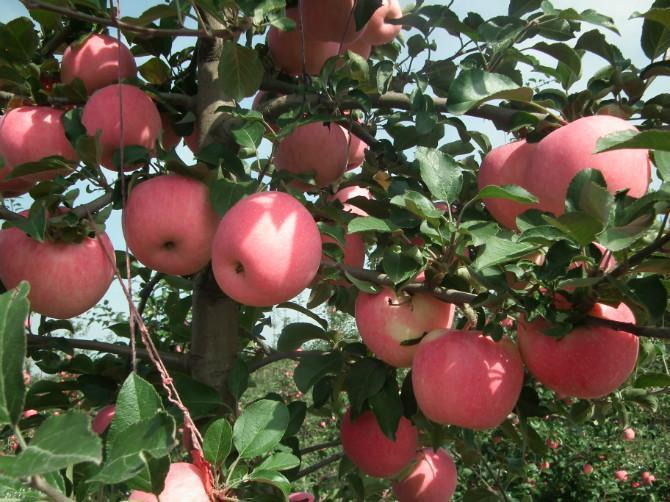apple: (209, 191, 321, 309), (521, 288, 637, 401), (525, 113, 649, 217), (1, 205, 115, 317), (410, 327, 522, 430), (121, 174, 219, 276), (354, 271, 453, 368), (81, 83, 164, 173), (2, 104, 79, 182), (268, 120, 349, 193), (342, 405, 416, 478), (476, 139, 533, 232), (58, 34, 141, 91)
